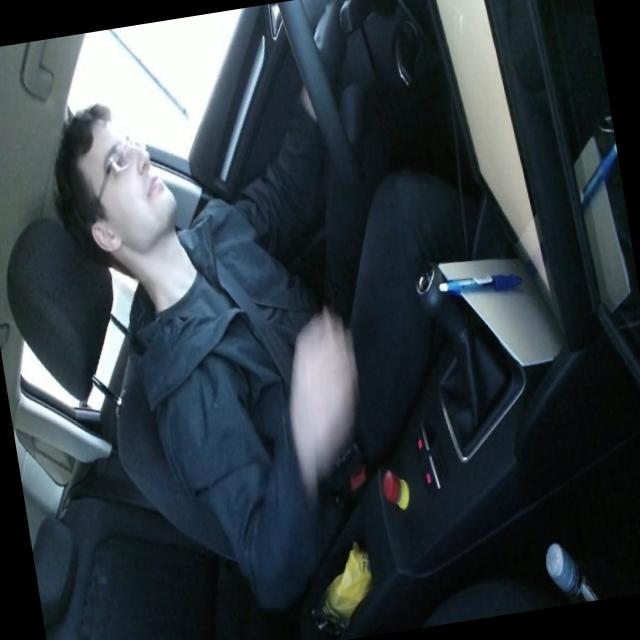pen: (437, 266, 524, 301)
